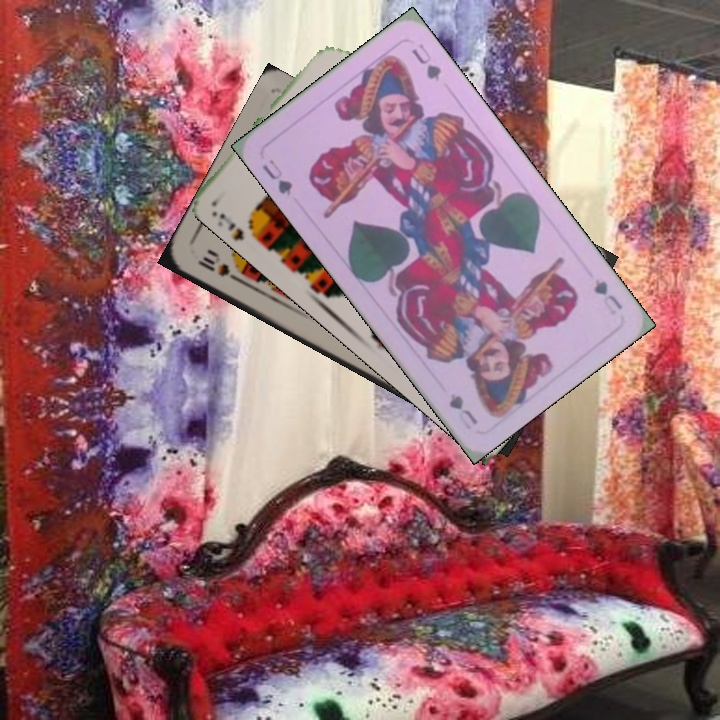GU: (258, 155, 295, 198), (589, 275, 626, 318)
S10: (193, 252, 244, 285)
S9: (215, 209, 262, 245)
